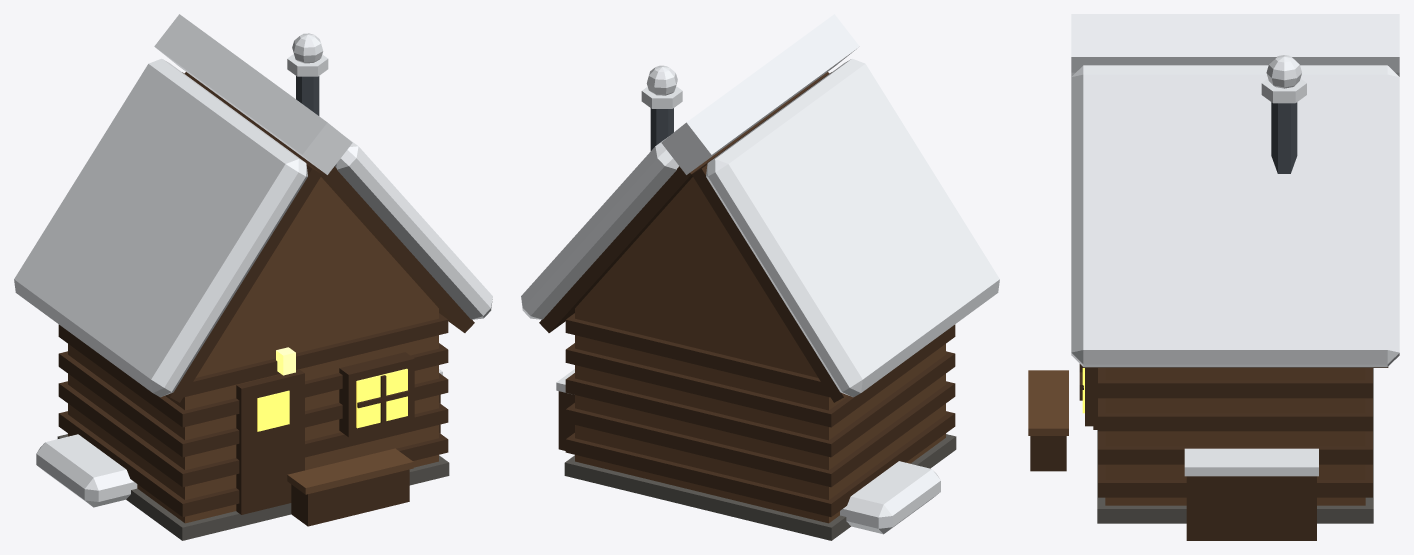
File: warming-hut.glb
The picture shows the model from 3 angles, left to right: view 1: azimuth 30°, elevation 25°; view 2: azimuth 150°, elevation 25°; view 3: azimuth 270°, elevation 25°; orthographic projection. The views are drawn at different scales.
Visible parts, largest first — view 1: warming-hut; view 2: warming-hut; view 3: warming-hut.
Part boxes in pixels (x1,y1,x2,y2): warming-hut: [14, 14, 492, 540]; warming-hut: [521, 14, 999, 540]; warming-hut: [1028, 14, 1399, 540].
Size of the model in its own units: 5.44 by 5.94 by 4.57.
